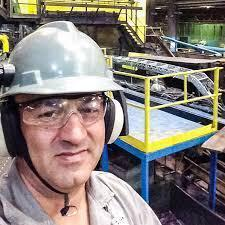helmet: (1, 20, 124, 97)
